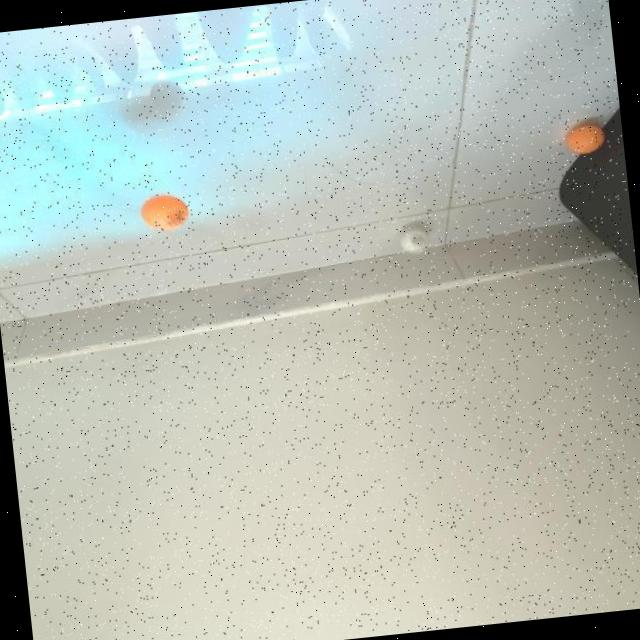ping-pong-ball: (138, 192, 191, 232), (562, 122, 606, 156), (398, 223, 432, 253)
